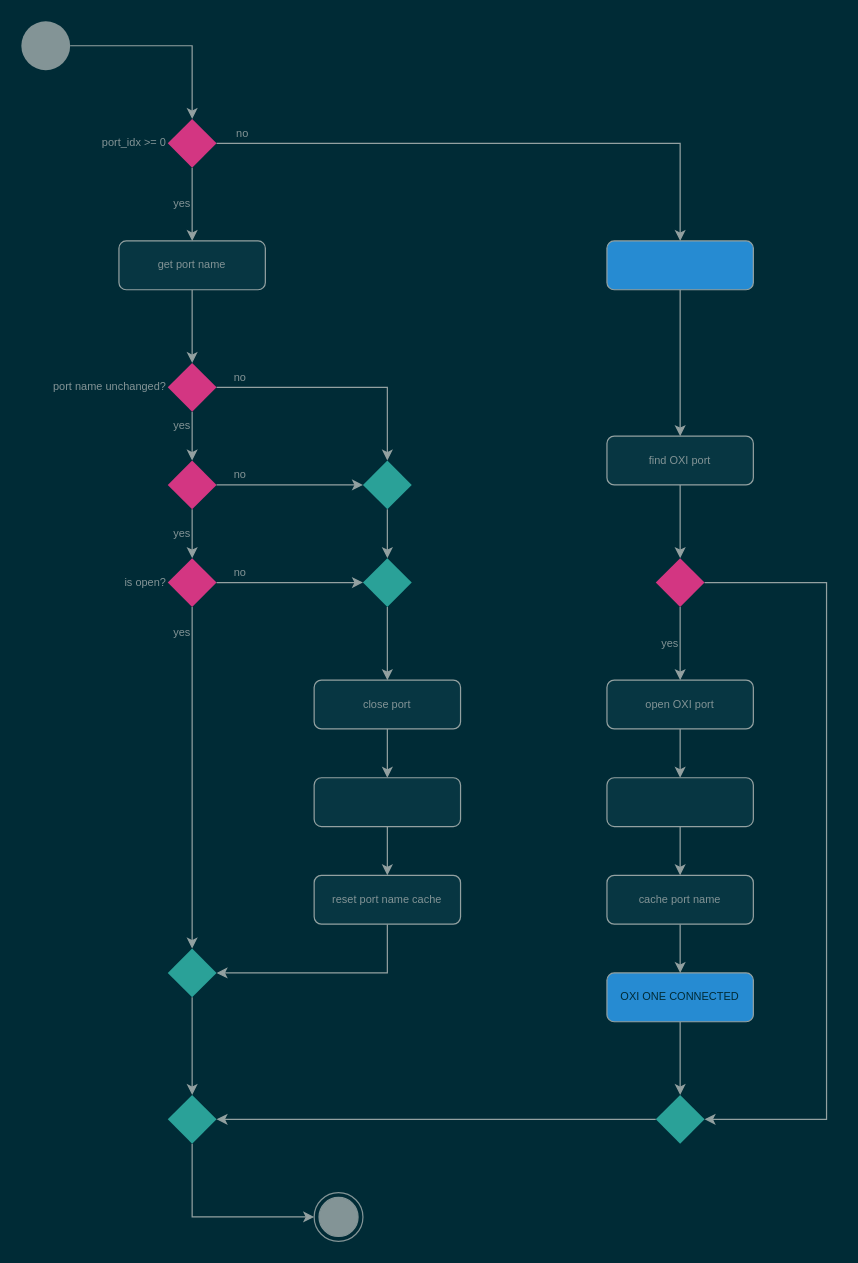
Image size: 858x1263. Some labels were removed from this diagram. The shapes that lost their labels are listed below. From the top down, each one's centre as x and y in pixels, then its label:
At [679,265]: "CONNECT YOUR OXI ONE".
At [191,484]: "is OXI port?".
At [679,582]: "any OXI port?".
At [387,802]: "port_idx = -1".
At [679,802]: "port_idx = <idx>".
